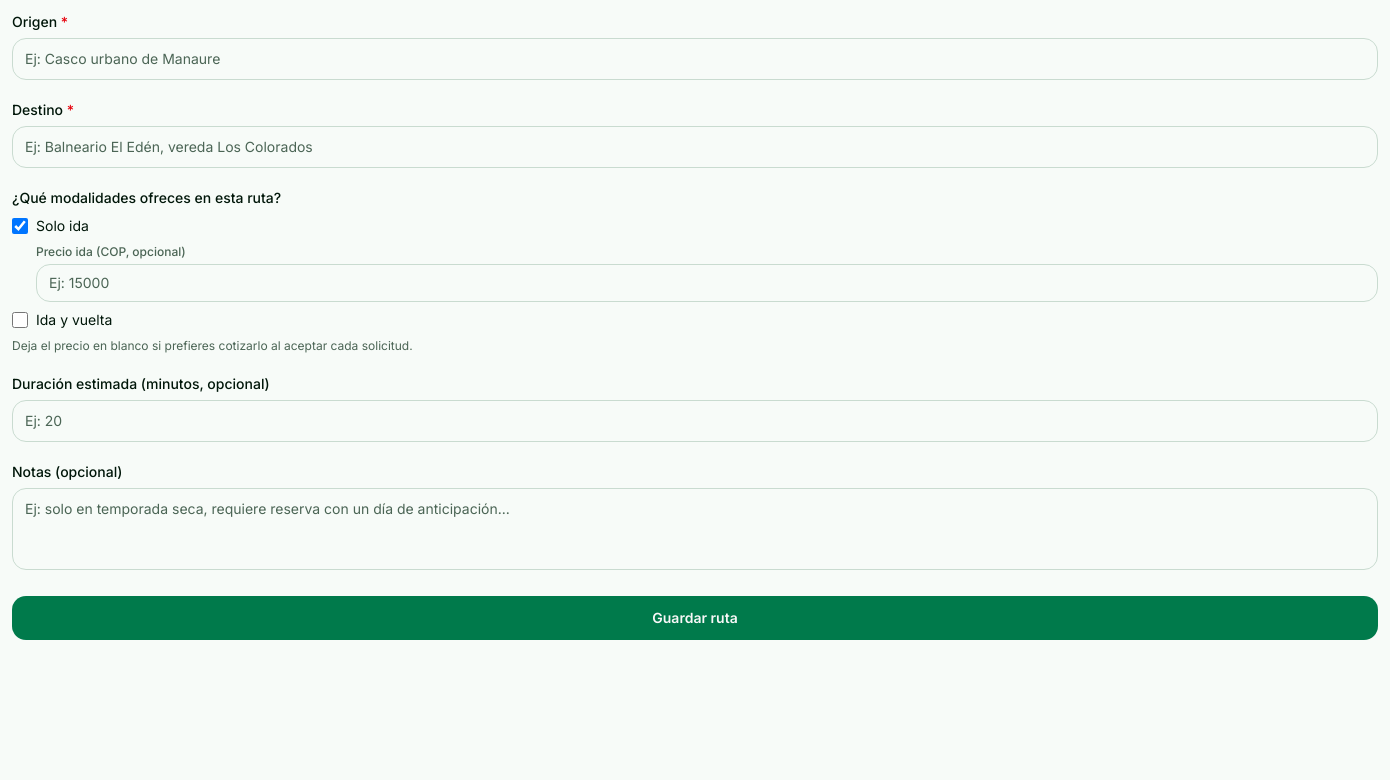
Test: RouteForm › disables the submit button and shows the pending label while the action is in flight
Type "Casco urbano de Manaure" into the field labelled "Origen *" at (695, 59), box [12,38,1378,80]
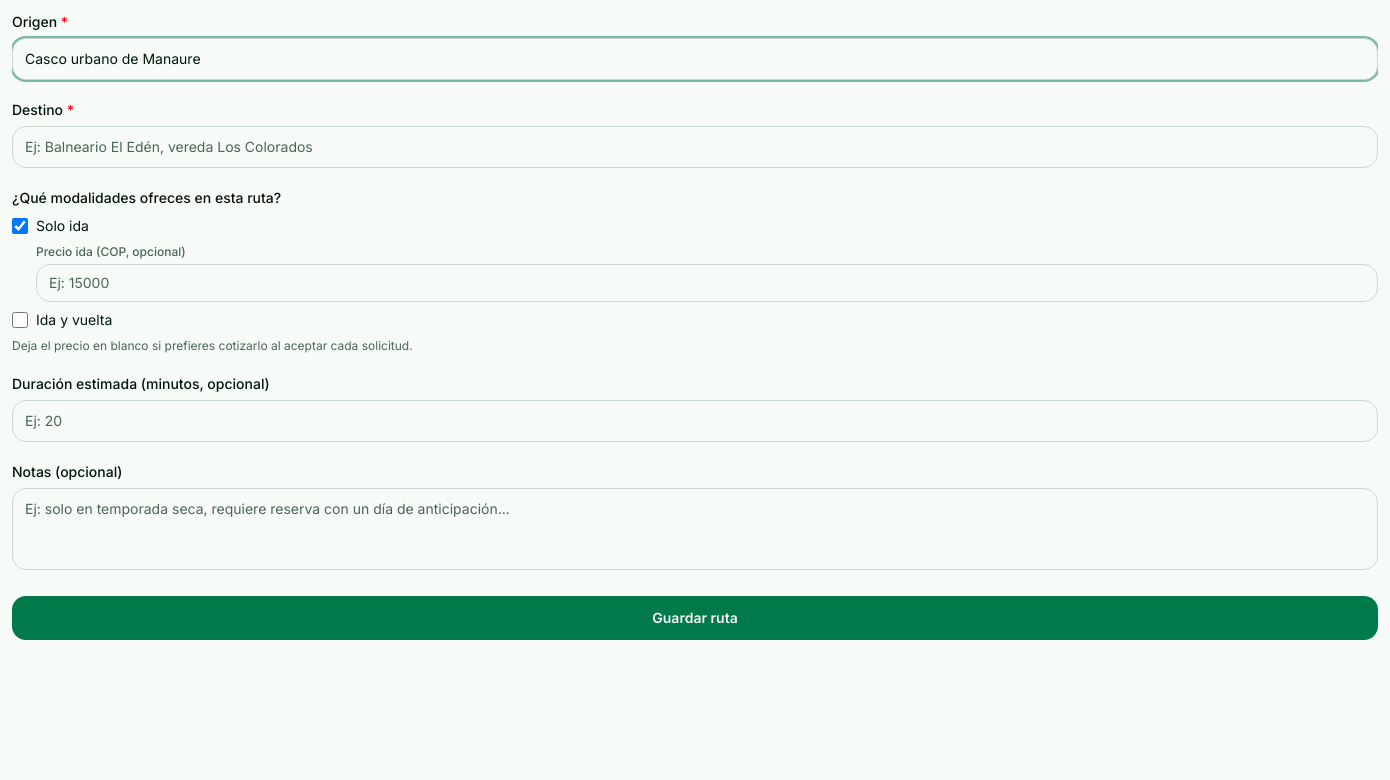
Type "Balneario El Edén" into the field labelled "Destino *" at (695, 147), box [12,126,1378,168]
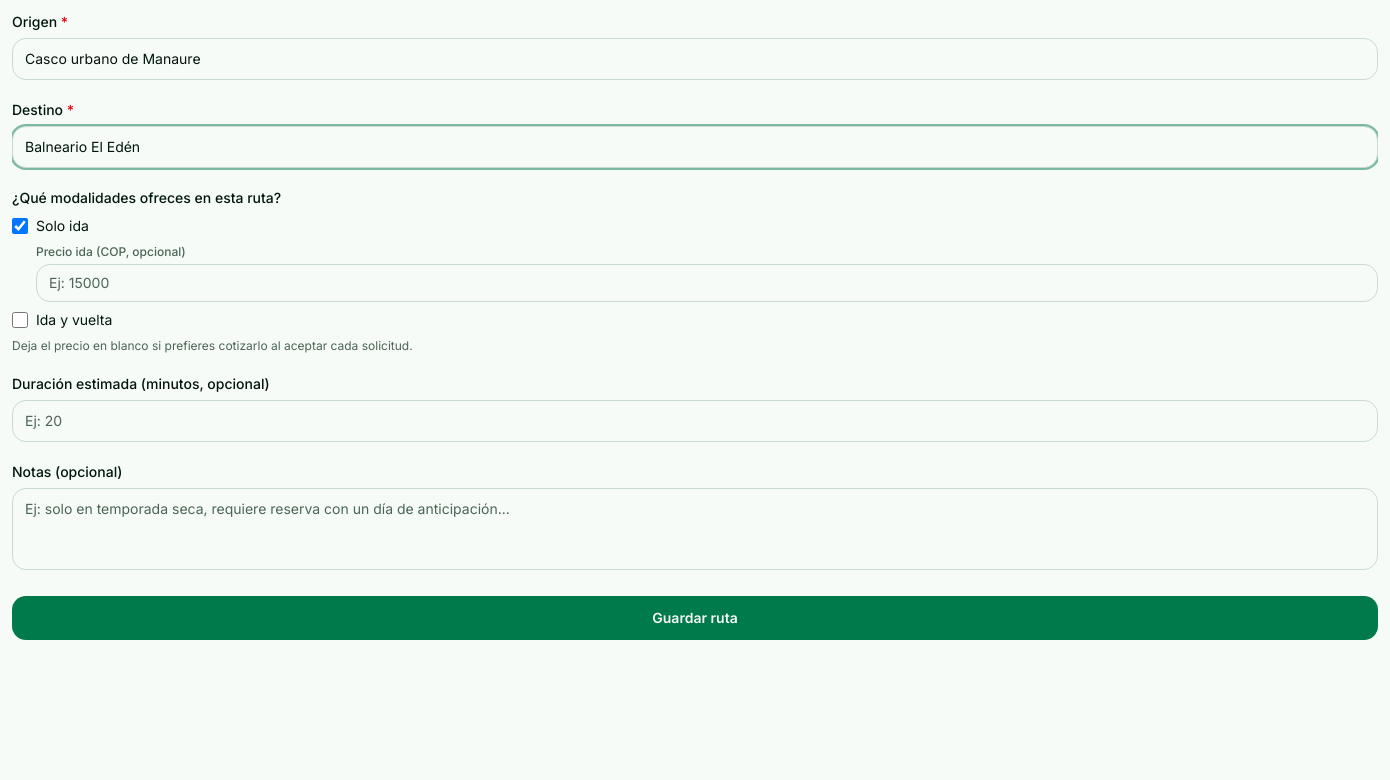
Click the button "Guardar ruta" at (695, 618), box [12,596,1378,640]
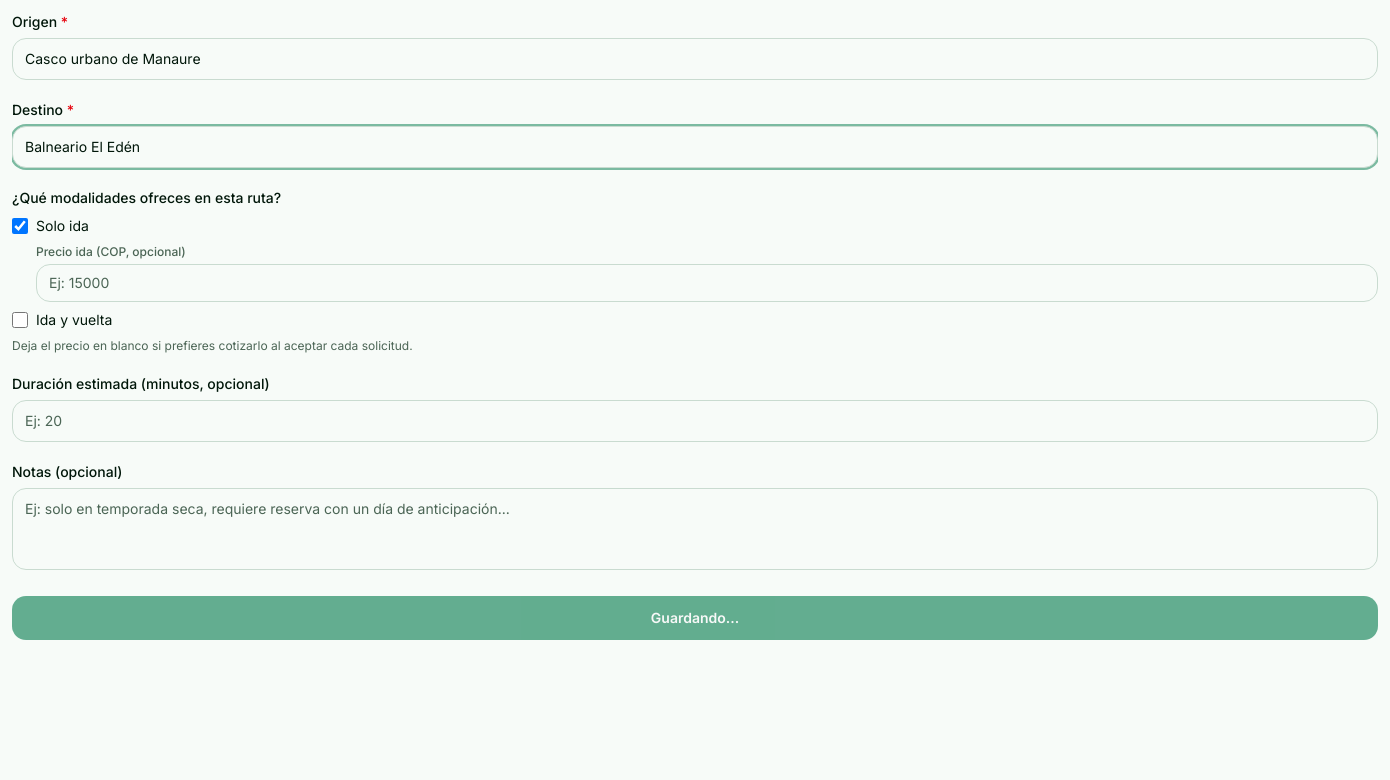
Expected: the button "Guardando..." is disabled, [12,596,1378,640]
